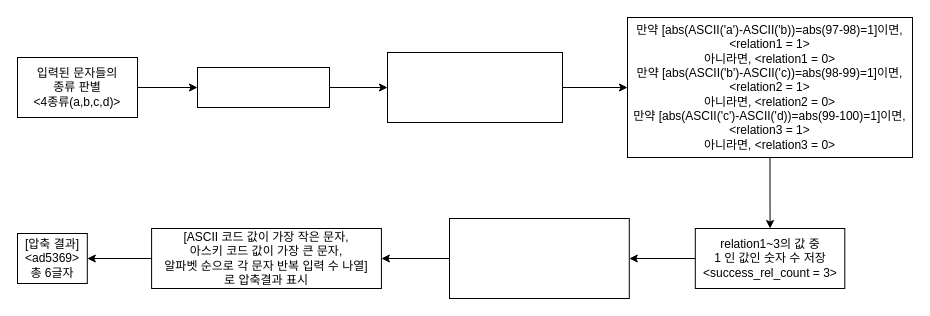
Image size: 930x316. Some labels were removed from this diagram. Each missing label, with the centre of its shape:
"[char_type_count - 1 = success_rel_count]이면 ->> <입력된 모든 문자는 서로 알파벳 순서 상 연속적>" goes at point 538,258.
"각 문자의 ASCII 코드 값으로 입력된 문자들이 알파벳 순서상 연속적인지 판단 [abs(ASCII('a')-ASCII('b')) = 1?]" goes at point 474,87.
"종류의 수 저장 <char_type_count = 4>" goes at point 263,87.
